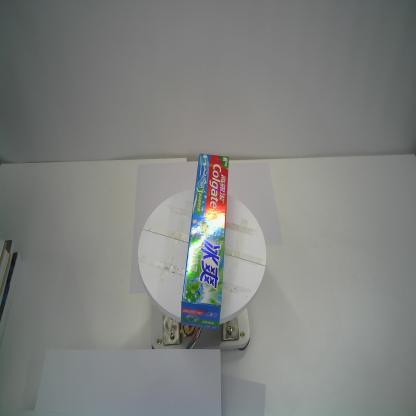Personal Hygiene: (181, 153, 229, 330)
